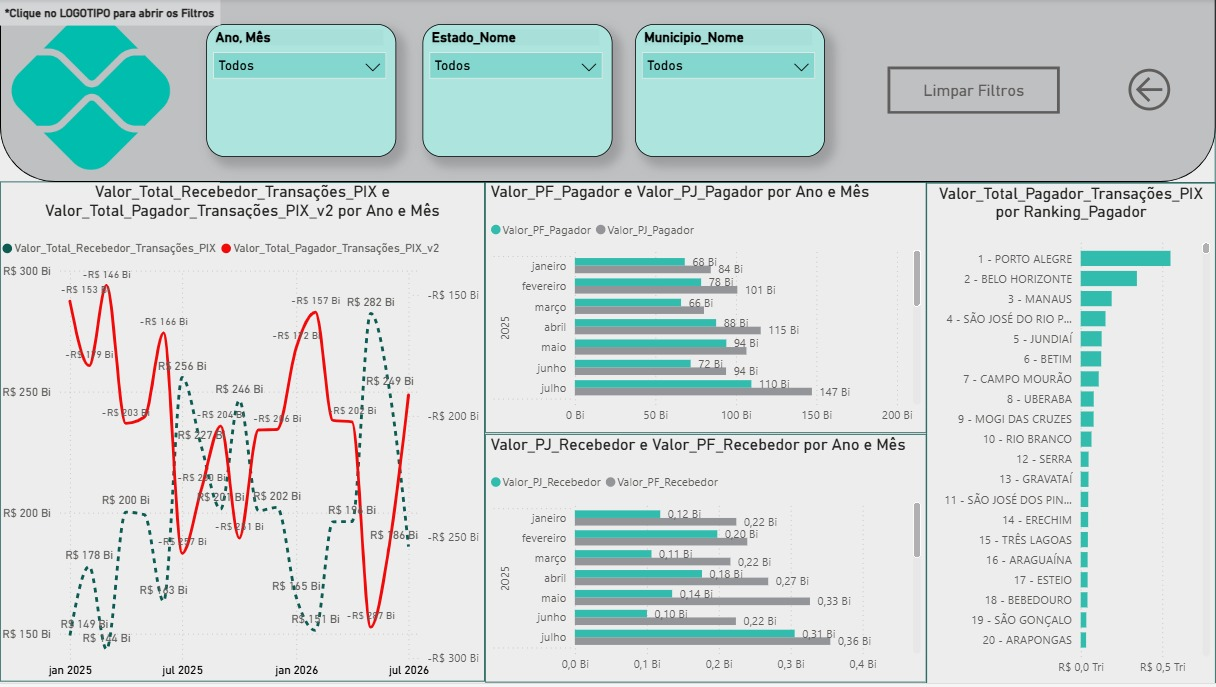

This screenshot's page, from the dashboard's own definition file:
{"tool":"powerbi","page":{"name":"PIX | Visão_Geral","canvas":[1280,720],"ordinal":1},"visuals":[{"type":"cardVisual","fields":{"Data":["Medidas.Valor_Total_Pagador_Transações_PIX","Medidas.Qtde_Total_Pagador","Medidas.Ticket_Médio_Transações"]},"box":[231.9,0,1047.9,193.9],"z":0},{"type":"lineChart","fields":{"Category":["Calendário.Data.Variation.Hierarquia de datas.Ano","Calendário.Data.Variation.Hierarquia de datas.Mês"],"Y":["Medidas.Valor_Total_Recebedor_Transações_PIX"],"Y2":["Medidas.Valor_Total_Pagador_Transações_PIX_v2"]},"box":[0,192.6,510.4,526.4],"z":1000},{"type":"clusteredBarChart","fields":{"Category":["Dim_Ranking_Transações.Ranking_Pagador"],"Y":["Medidas.Valor_Total_Pagador_Transações_PIX"]},"box":[975.2,193.2,305.1,528.9],"z":2000},{"type":"clusteredBarChart","fields":{"Category":["Calendário.Data.Variation.Hierarquia de datas.Ano","Calendário.Data.Variation.Hierarquia de datas.Mês"],"Y":["Medidas.Valor_PF_Pagador","Medidas.Valor_PJ_Pagador"]},"box":[510.4,192.6,465,265],"z":3000},{"type":"clusteredBarChart","fields":{"Category":["Calendário.Data.Variation.Hierarquia de datas.Ano","Calendário.Data.Variation.Hierarquia de datas.Mês"],"Y":["Medidas.Valor_PJ_Recebedor","Medidas.Valor_PF_Recebedor"]},"box":[510.4,457.7,465,261.4],"z":4000},{"type":"image","box":[0,28.2,231.9,164.4],"z":5000},{"type":"actionButton","box":[0,1.2,231.9,192.6],"z":7000},{"type":"actionButton","box":[1150.9,0,128.8,193.9],"z":8000},{"type":"textbox","box":[0,0,231.9,28.2],"z":9000}]}

Visuals, with their boxes in screenshot pixels (x1, y1, x2, y2), scaled from the page's 1280x720 canvas onto the 1216x687 screenshot:
cardVisual - Medidas.Valor_Total_Pagador_Transações_PIX x Medidas.Qtde_Total_Pagador: box=[220, 0, 1215, 185]
lineChart - Calendário.Data.Variation.Hierarquia de datas.Ano x Calendário.Data.Variation.Hierarquia de datas.Mês: box=[0, 184, 485, 686]
clusteredBarChart - Dim_Ranking_Transações.Ranking_Pagador x Medidas.Valor_Total_Pagador_Transações_PIX: box=[926, 184, 1215, 686]
clusteredBarChart - Calendário.Data.Variation.Hierarquia de datas.Ano x Calendário.Data.Variation.Hierarquia de datas.Mês: box=[485, 184, 927, 437]
clusteredBarChart - Calendário.Data.Variation.Hierarquia de datas.Ano x Calendário.Data.Variation.Hierarquia de datas.Mês: box=[485, 437, 927, 686]
image: box=[0, 27, 220, 184]
actionButton: box=[0, 1, 220, 185]
actionButton: box=[1093, 0, 1215, 185]
textbox: box=[0, 0, 220, 27]
